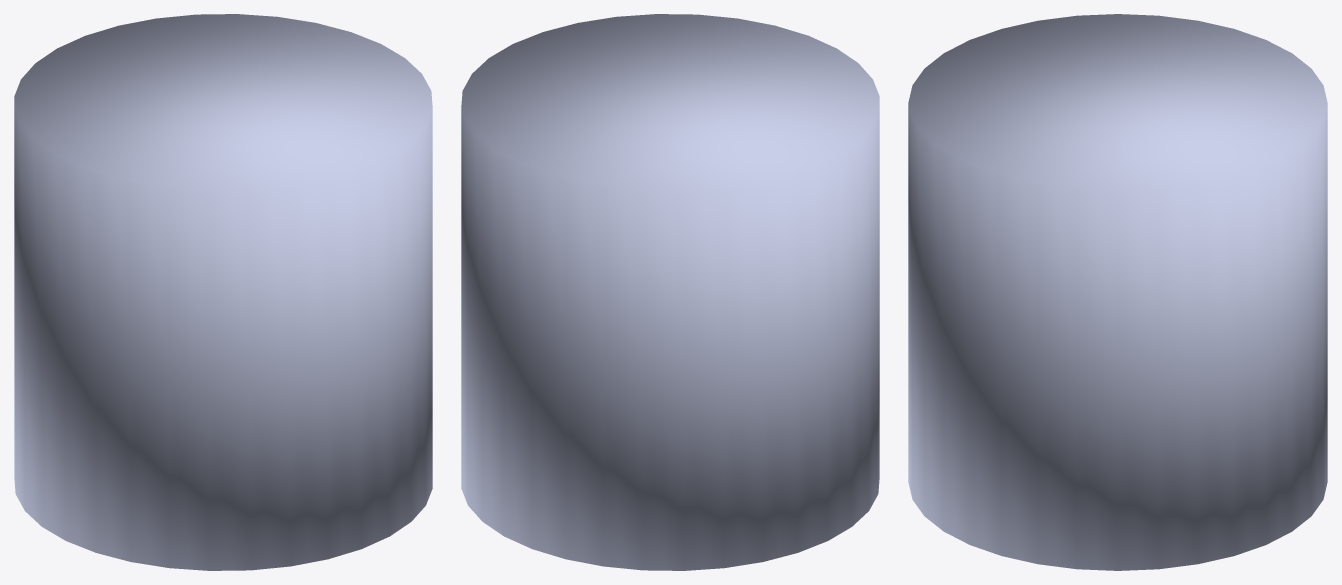
The picture shows the model from 3 angles, left to right: view 1: azimuth 30°, elevation 25°; view 2: azimuth 150°, elevation 25°; view 3: azimuth 270°, elevation 25°; orthographic projection.
Visible parts, largest first — view 1: Cylinder; view 2: Cylinder; view 3: Cylinder.
Part boxes in pixels (x1,y1,x2,y2): Cylinder: [14, 14, 432, 570]; Cylinder: [461, 14, 879, 570]; Cylinder: [908, 14, 1327, 570].
Bounding box in the file's own units: 2 × 2 × 2.
